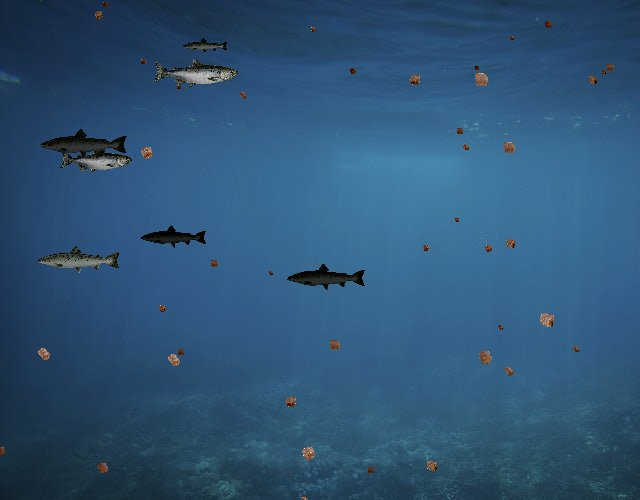Fish: (40, 127, 130, 160), (36, 244, 122, 275), (152, 58, 238, 89), (287, 262, 368, 292), (60, 147, 133, 173), (141, 224, 209, 249), (183, 38, 230, 55)
Pellet: (467, 66, 495, 94), (497, 136, 521, 160), (499, 361, 519, 381), (235, 87, 251, 103), (363, 463, 378, 477), (307, 23, 320, 36), (452, 214, 462, 224)
